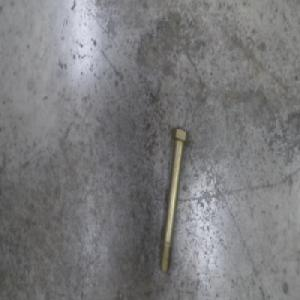Bolt: (157, 126, 188, 273)
